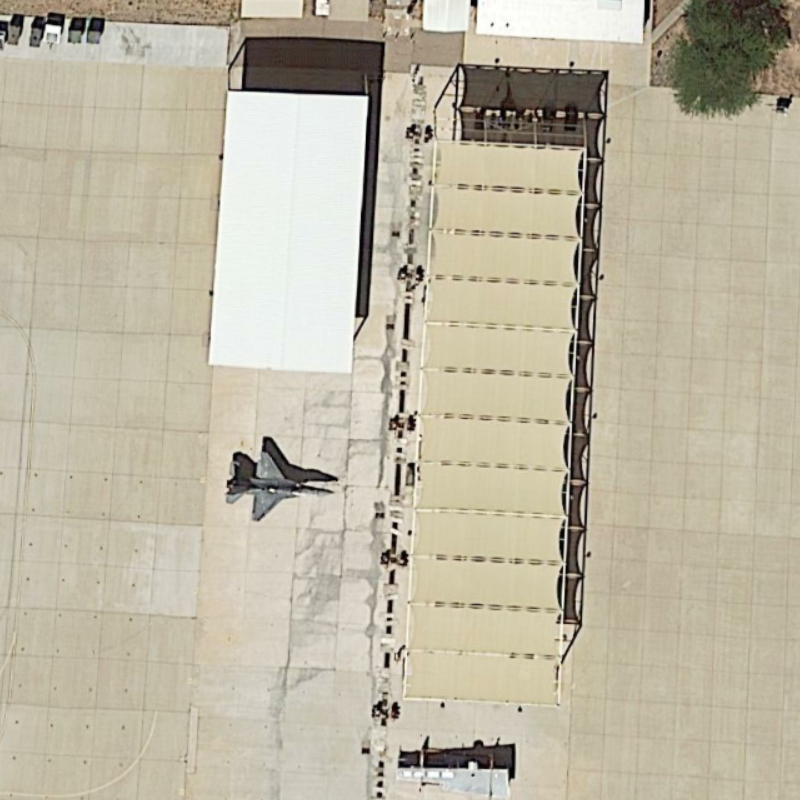A5: (223, 447, 337, 524)
